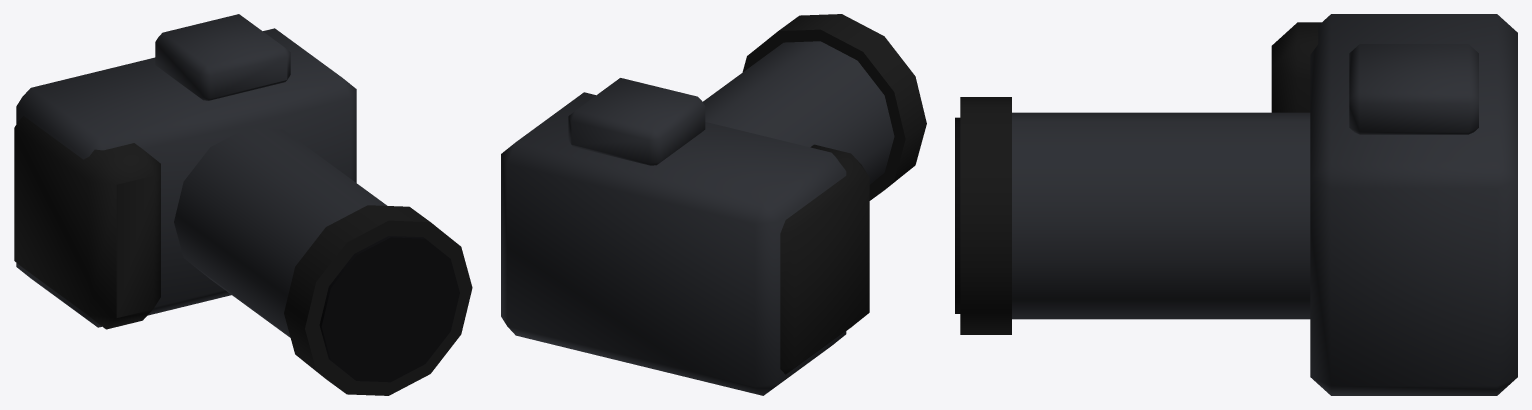
File: SM_Flot_Camara.fbx
3 renders of one model, left to right at view 1: azimuth 30°, elevation 25°; view 2: azimuth 150°, elevation 25°; view 3: azimuth 270°, elevation 25°, orthographic. The views are drawn at different scales.
Visible parts, largest first — view 1: SM_Flot_Camara; view 2: SM_Flot_Camara; view 3: SM_Flot_Camara.
Boxes of the visible parts, x1,y1,x2,y2 form: SM_Flot_Camara: (14, 14, 472, 395); SM_Flot_Camara: (501, 14, 926, 395); SM_Flot_Camara: (955, 14, 1517, 395).
Bounding box in the file's own units: 0.155 × 0.118 × 0.217.
